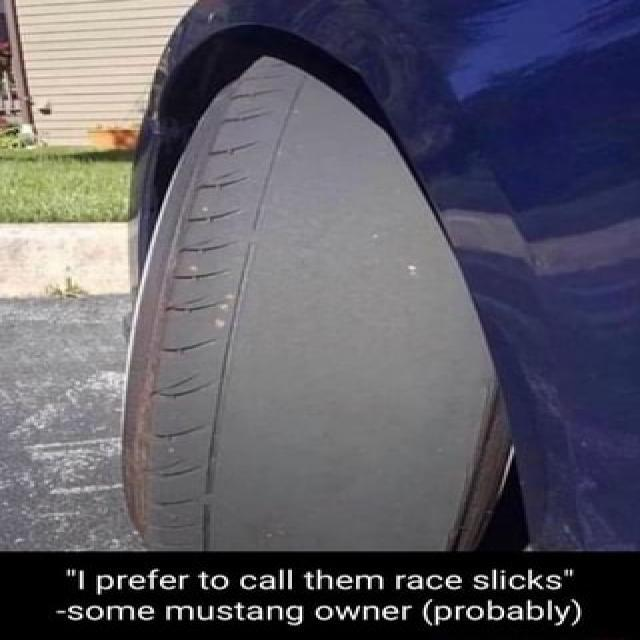Flat spots: (261, 197, 452, 557)
